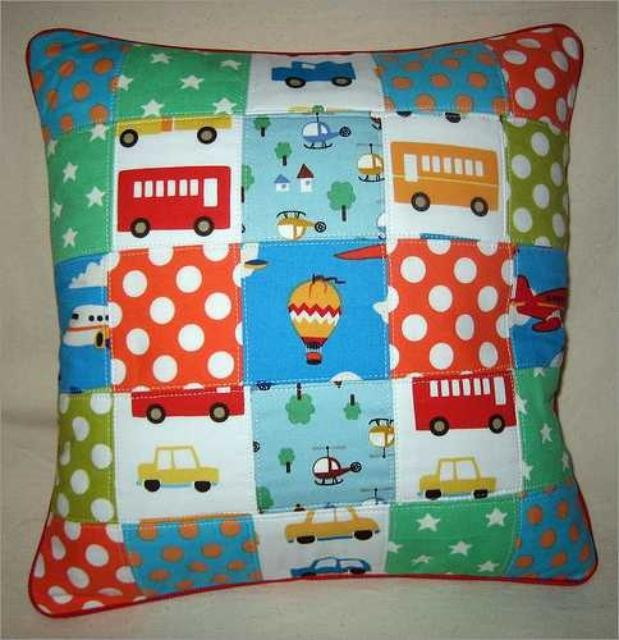pillow: (23, 21, 599, 617)
